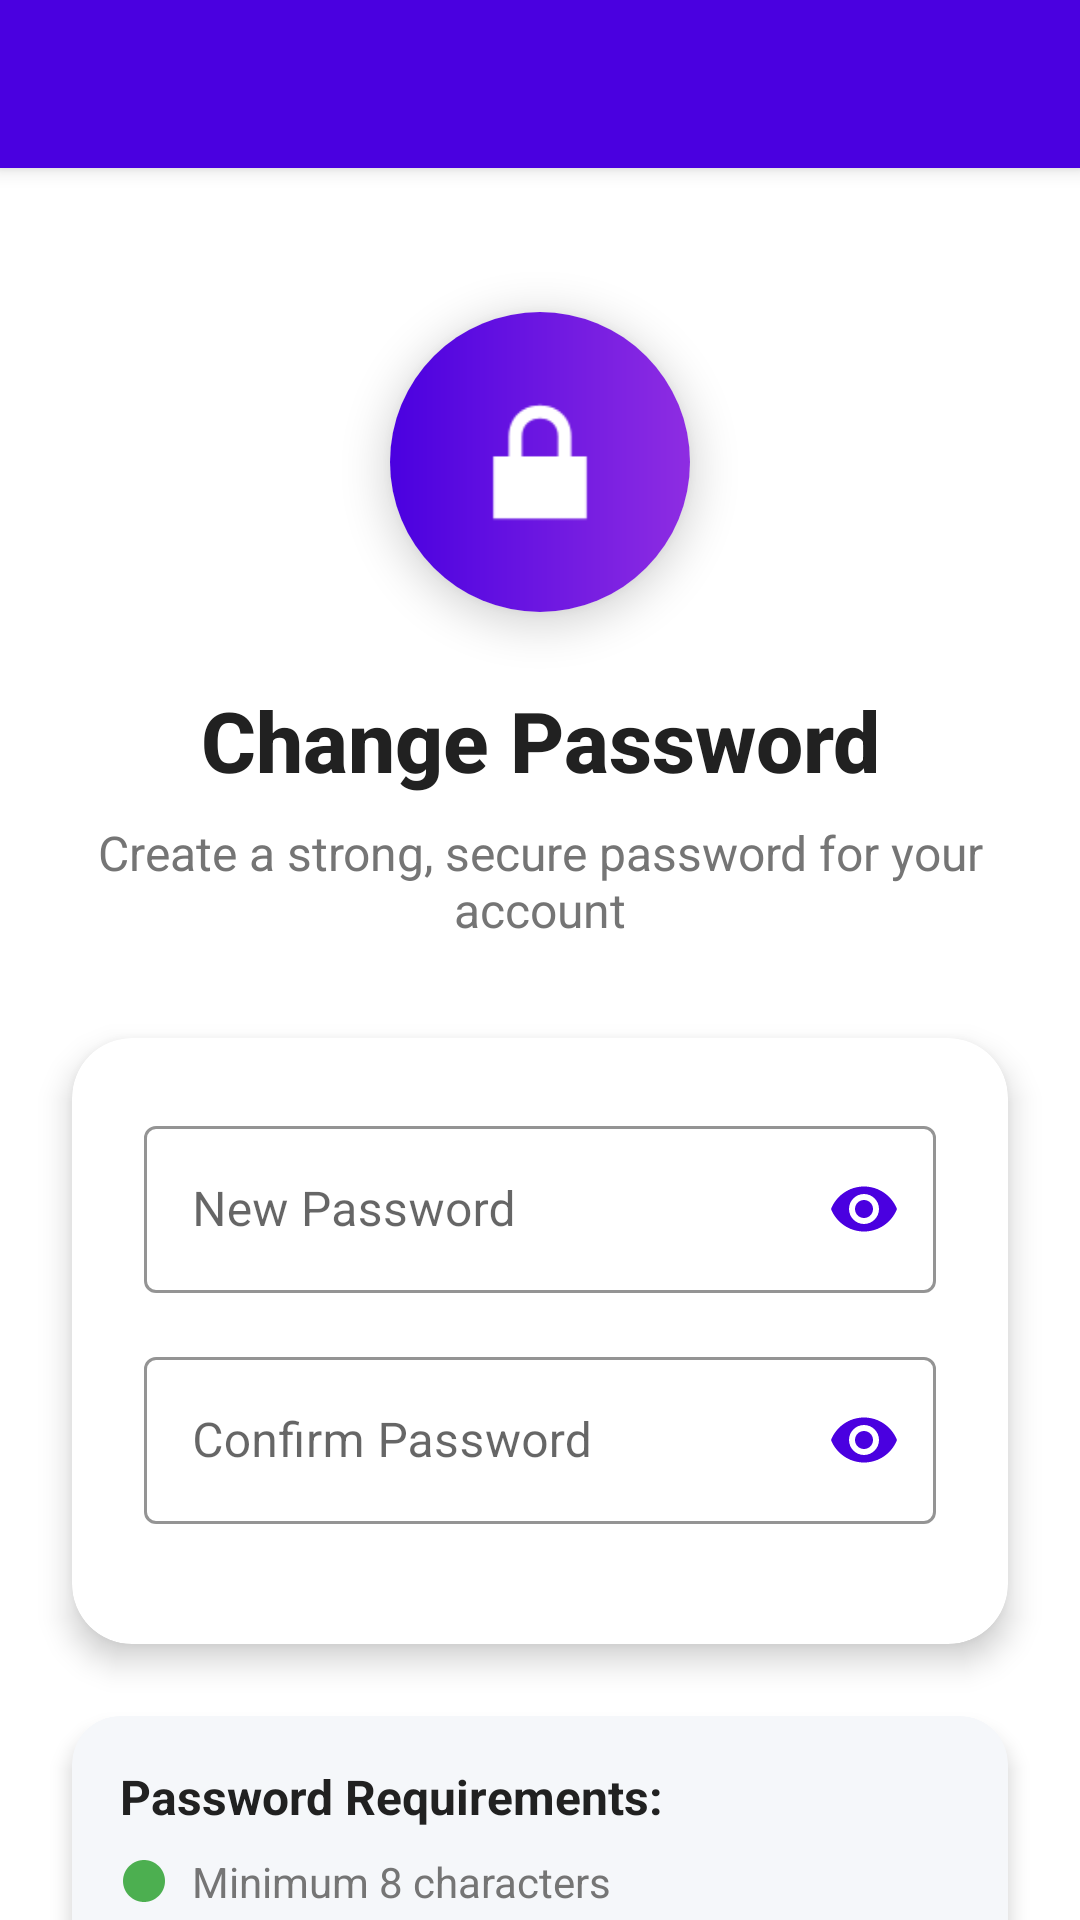

Named icons in this screenshot (1080 x 1920) and their bounding boxes, (x1, y1, x2, y2):
lock: (390, 312, 690, 612)
